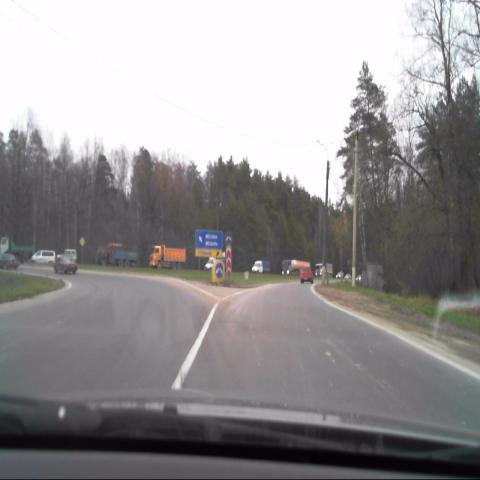4_2_3: (215, 262, 225, 281), (224, 230, 232, 245)
